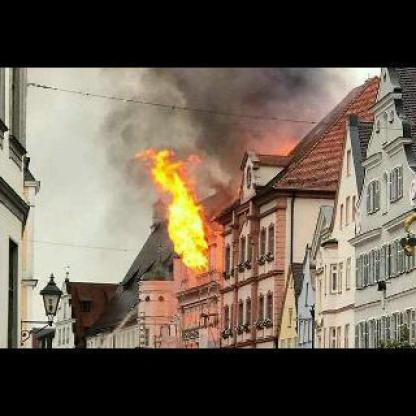fire: (138, 146, 217, 275)
